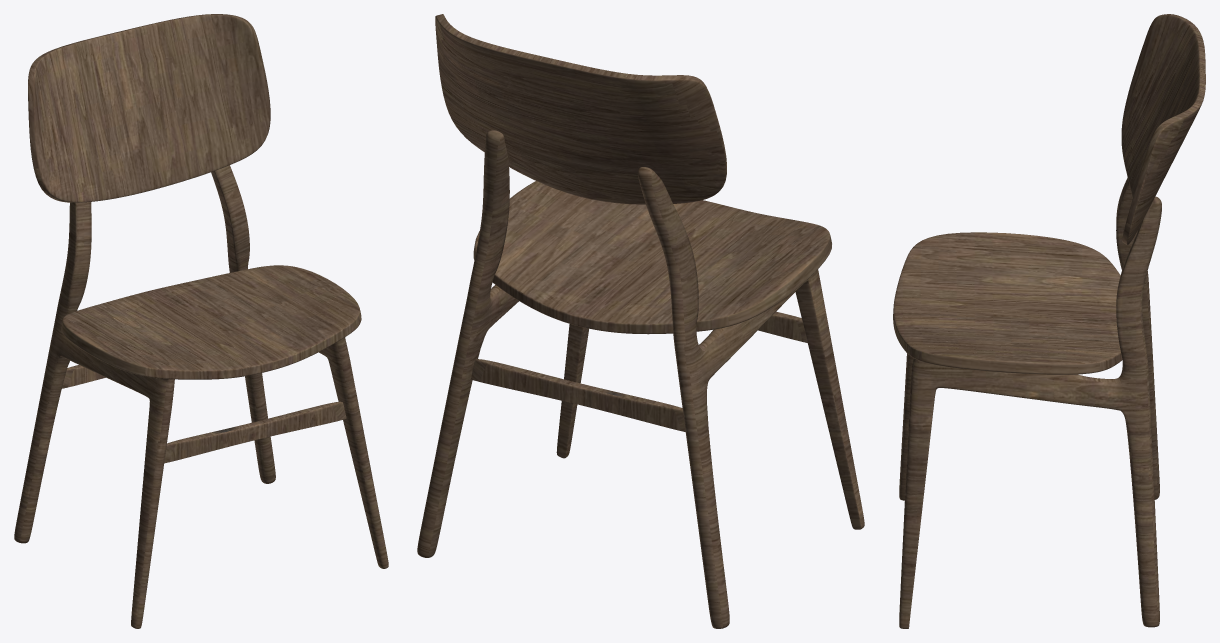
File: wood_chair.glb
3 views of the same model, side by side, from view 1: azimuth 30°, elevation 25°; view 2: azimuth 150°, elevation 25°; view 3: azimuth 270°, elevation 25° (orthographic). The views are drawn at different scales.
Visible parts, largest first — view 1: backrest, Sitting, Legs, Chair holder_1, Chair holder_2; view 2: Sitting, backrest, Legs, Chair holder_2, Chair holder_1; view 3: Sitting, Legs, backrest.
Boxes of the visible parts, box(x1,y1,x2,y2) form: backrest: box(28, 14, 270, 202); Sitting: box(61, 265, 361, 379); Legs: box(14, 165, 388, 628); Chair holder_1: box(164, 401, 346, 463); Chair holder_2: box(62, 365, 105, 388); Sitting: box(473, 181, 831, 334); backrest: box(435, 14, 726, 204); Legs: box(417, 130, 864, 628); Chair holder_2: box(471, 359, 685, 431); Chair holder_1: box(758, 311, 807, 342); Sitting: box(893, 232, 1122, 374); Legs: box(899, 178, 1161, 628); backrest: box(1121, 14, 1205, 244).
Size of the model in its own units: 2.64 by 4.54 by 2.58.
1 material, 1 textured.
